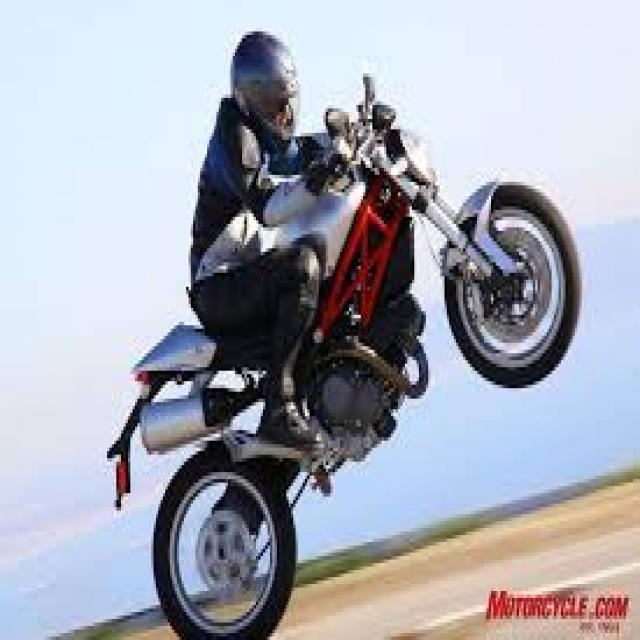Wheeling: (139, 29, 576, 629)
